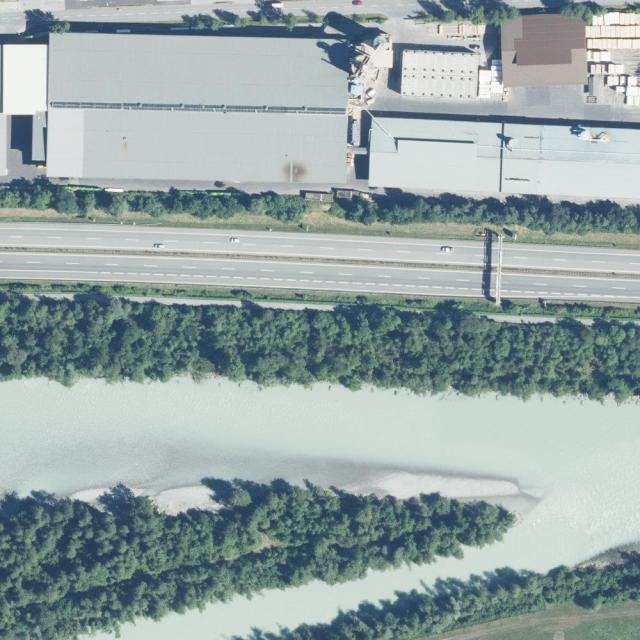building: (1, 378, 640, 640), (46, 32, 349, 183), (501, 13, 588, 87), (399, 48, 481, 101), (2, 44, 48, 115)
greenland: (0, 454, 522, 640)
metalled_road: (501, 243, 640, 303)
wetland: (1, 377, 640, 639)
